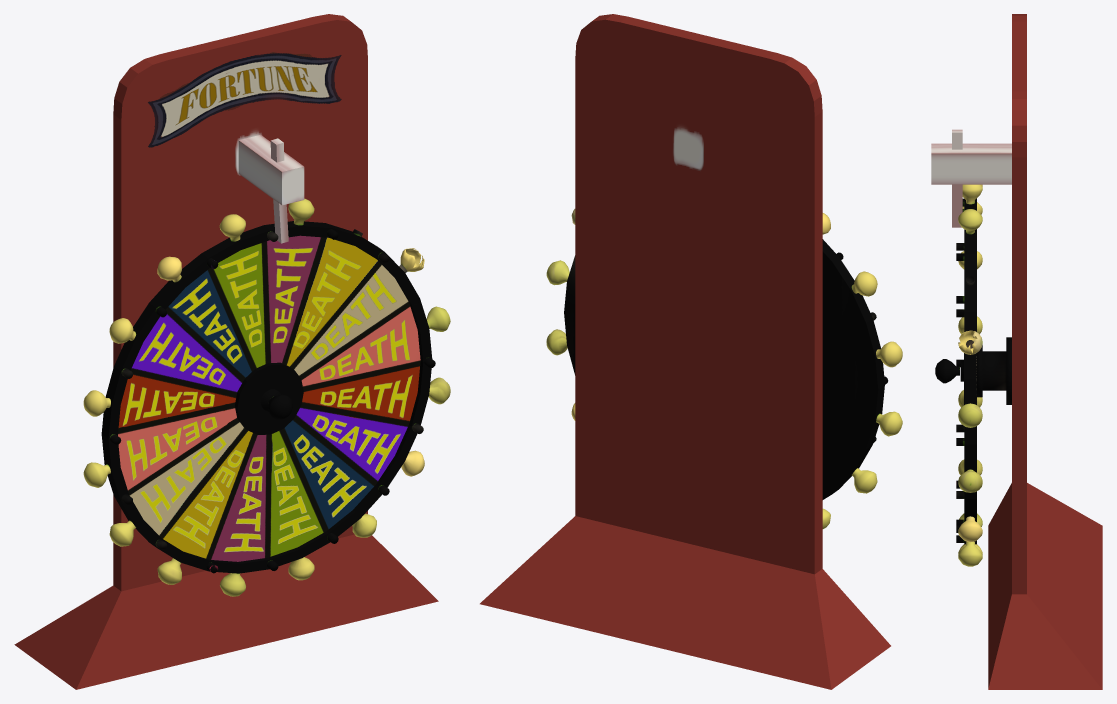
The model's file is luckywheel2.fbx.
3 views of the same model, side by side, from view 1: azimuth 30°, elevation 25°; view 2: azimuth 150°, elevation 25°; view 3: azimuth 270°, elevation 25° (orthographic). The views are drawn at different scales.
Parts seen in each view (by area): view 1: pyörä, tuki; view 2: tuki, pyörä; view 3: tuki, pyörä, tämä.
Boxes of the visible parts, bbox=[...] form: pyörä: bbox=[83, 198, 450, 596]; tuki: bbox=[14, 14, 438, 689]; tuki: bbox=[480, 14, 890, 689]; pyörä: bbox=[546, 209, 902, 528]; tuki: bbox=[931, 14, 1102, 689]; pyörä: bbox=[935, 184, 1011, 566]; tämä: bbox=[952, 184, 962, 227].
Bounding box in the file's own units: 2.94 × 4.61 × 1.3.
